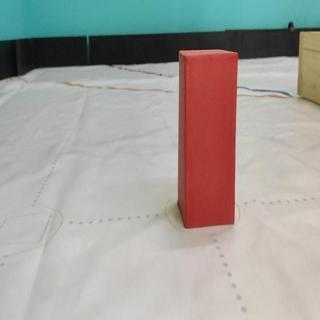redbox: (177, 47, 237, 228)
